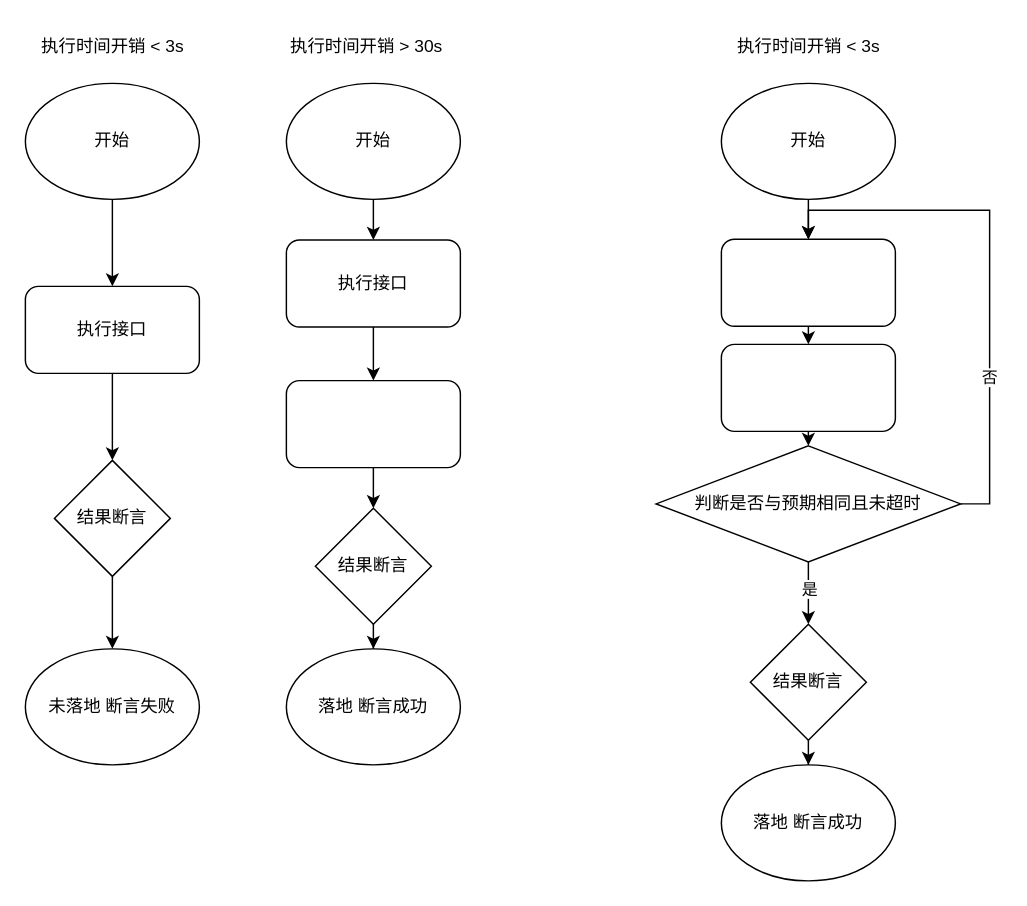
This 1027x906 diagram has some shape labels left out. Each missing label, with the centre of its shape:
"执行接口 提取断言变量" belongs at (807,282).
"等待30s" belongs at (372,423).
"等待3s" belongs at (807,387).
